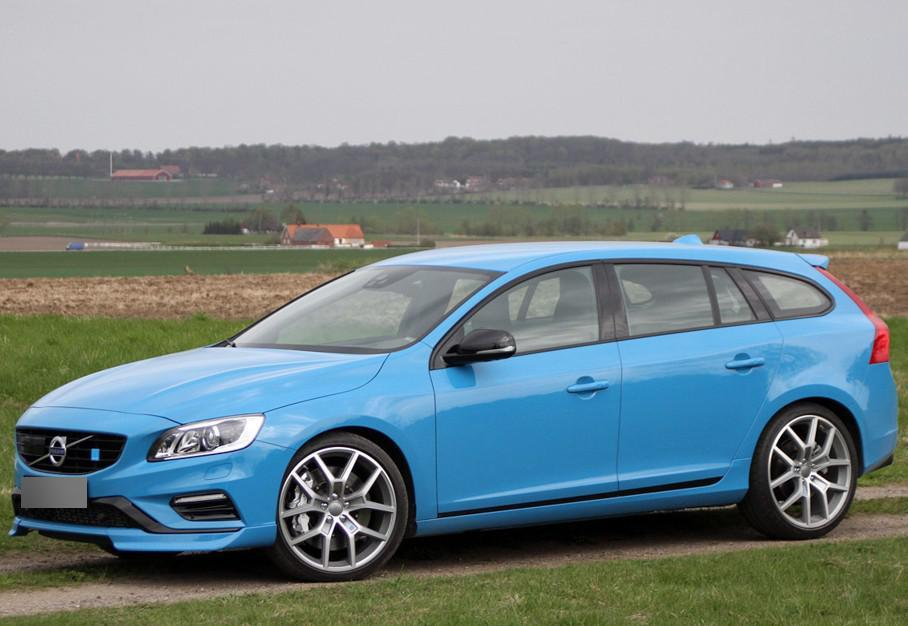Wagon: (8, 233, 899, 585)
